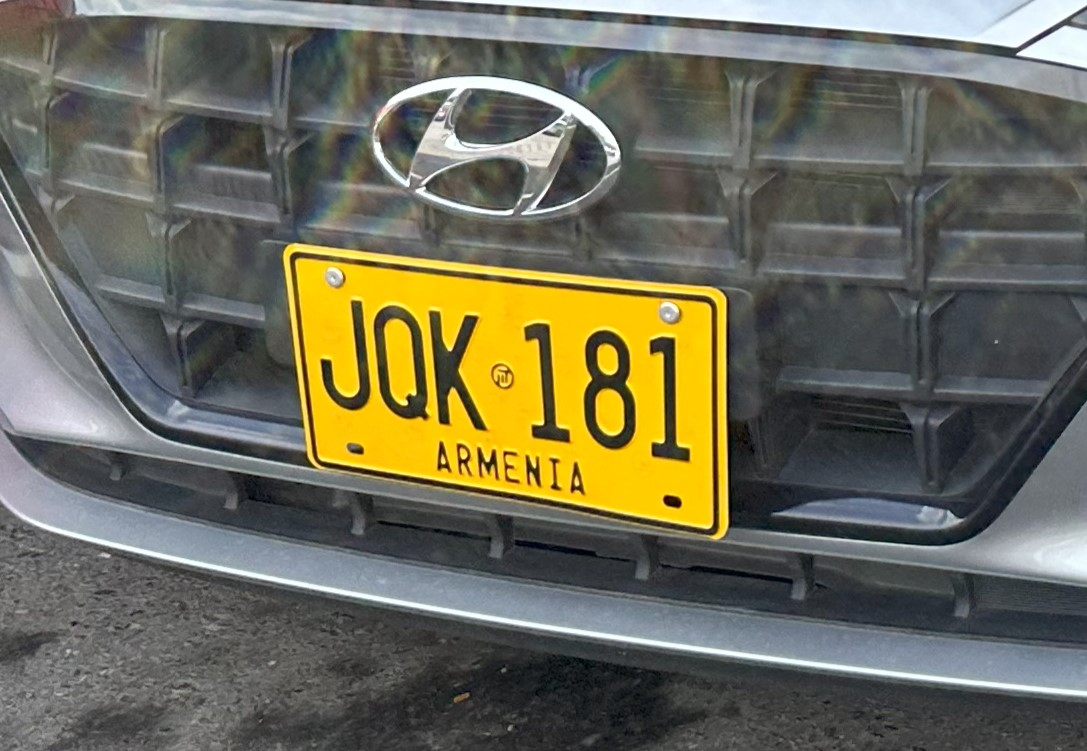number plate: (284, 245, 727, 535)
